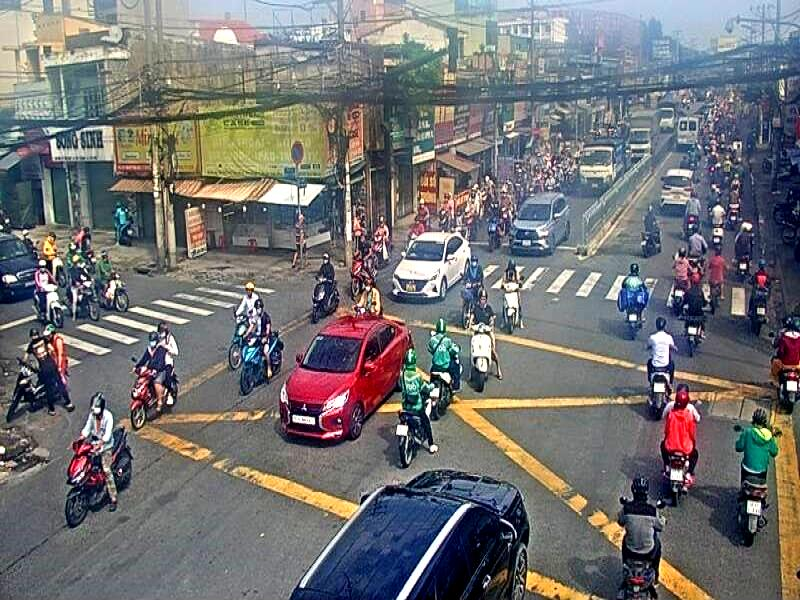car: (253, 465, 540, 600), (272, 299, 416, 446), (391, 225, 474, 307), (511, 179, 570, 287), (0, 229, 40, 302), (664, 159, 698, 222)
motorcycle: (59, 422, 144, 524), (109, 357, 191, 421), (224, 320, 288, 401), (5, 357, 82, 423), (464, 315, 501, 413), (498, 268, 529, 342)
truck: (576, 132, 621, 194)
